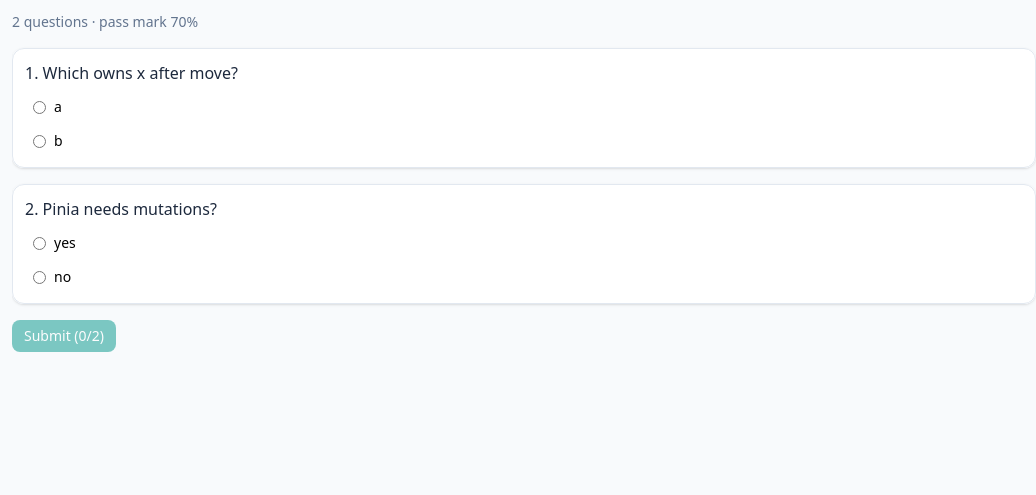
Test: <QuizPanel> › marks an all-wrong run as failed and reveals correct answers
Click the radio button labelled "a" at [40, 107], box top-left (33, 100), bottom-right (46, 114)
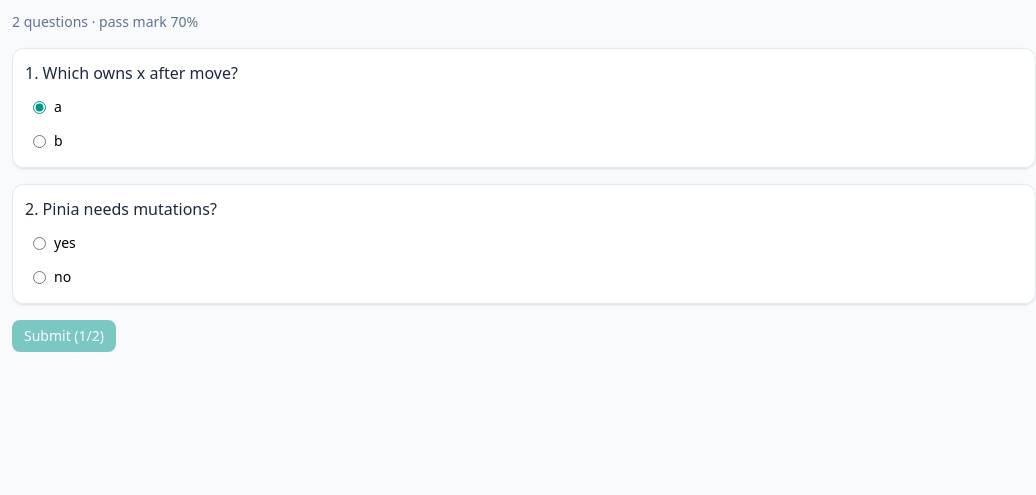
Click the radio button labelled "yes" at [40, 243], box top-left (33, 236), bottom-right (46, 250)
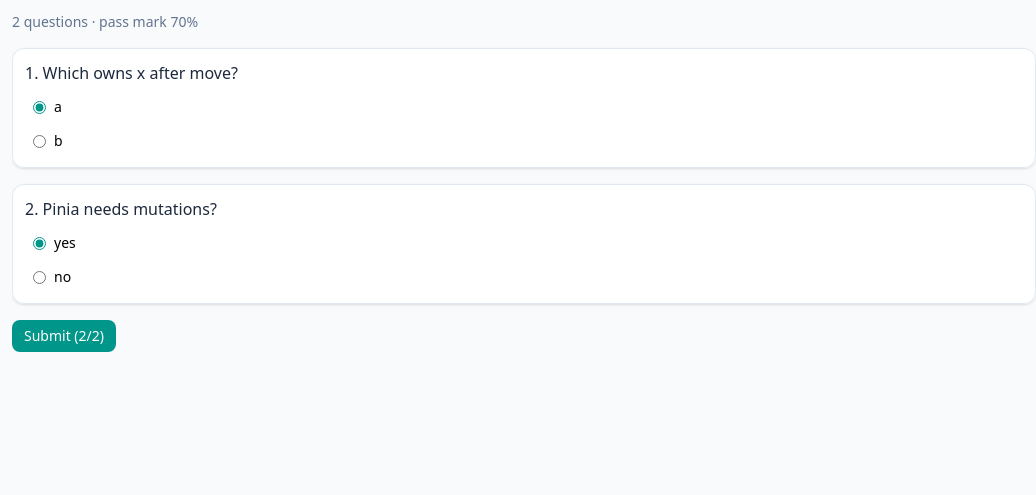
Click the button with test id "quiz-submit" at [64, 336], box top-left (12, 320), bottom-right (116, 352)
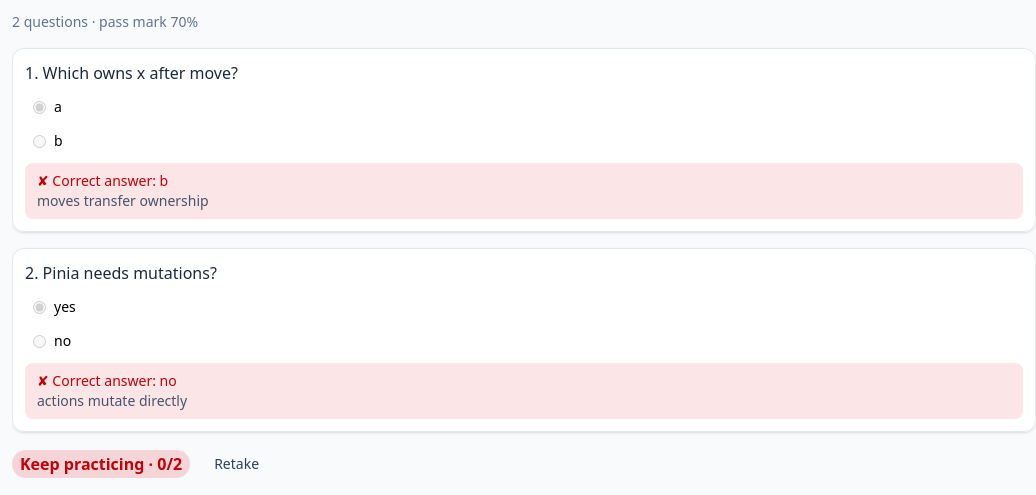
Result: the text with test id "quiz-result" shows "Keep practicing" at top-left (20, 453), bottom-right (182, 475)
Result: the text "Correct answer:" is shown at top-left (37, 171), bottom-right (168, 190)
